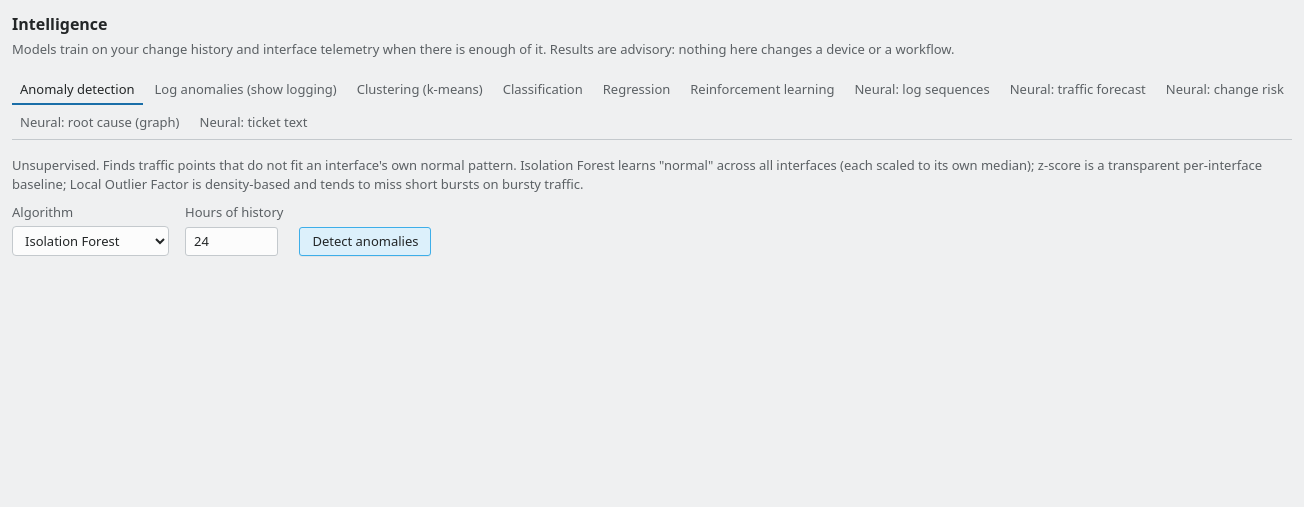
Scenario: MachineLearning › shows the learned wave-size policy
Click the tab "Reinforcement learning".
click(762, 90)  # box [682, 76, 842, 105]
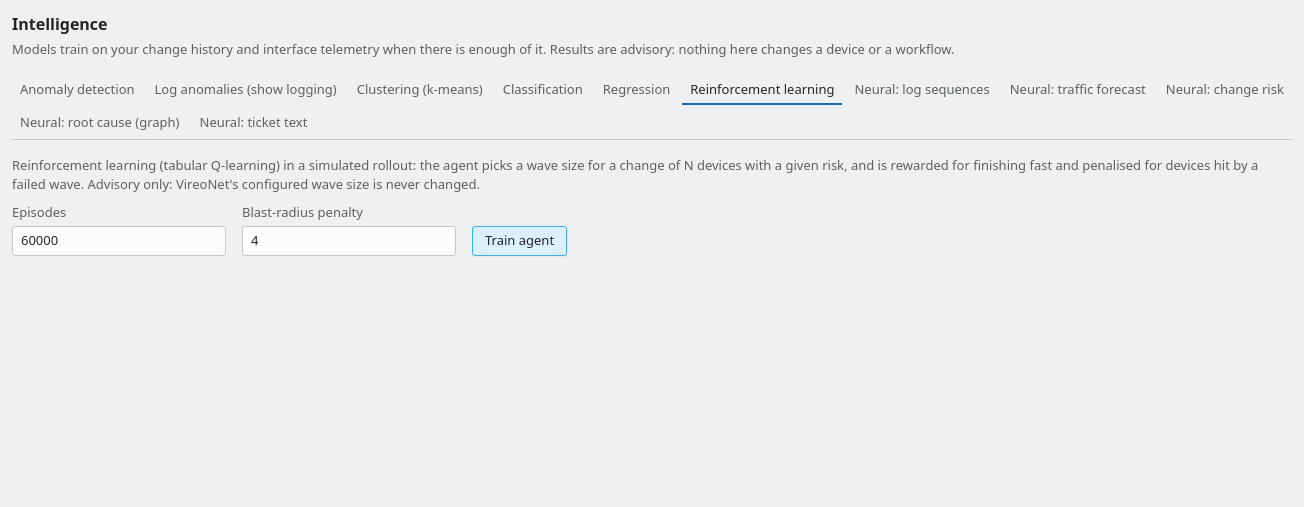
Click the button "Train agent".
click(520, 241)  # box [472, 226, 567, 256]
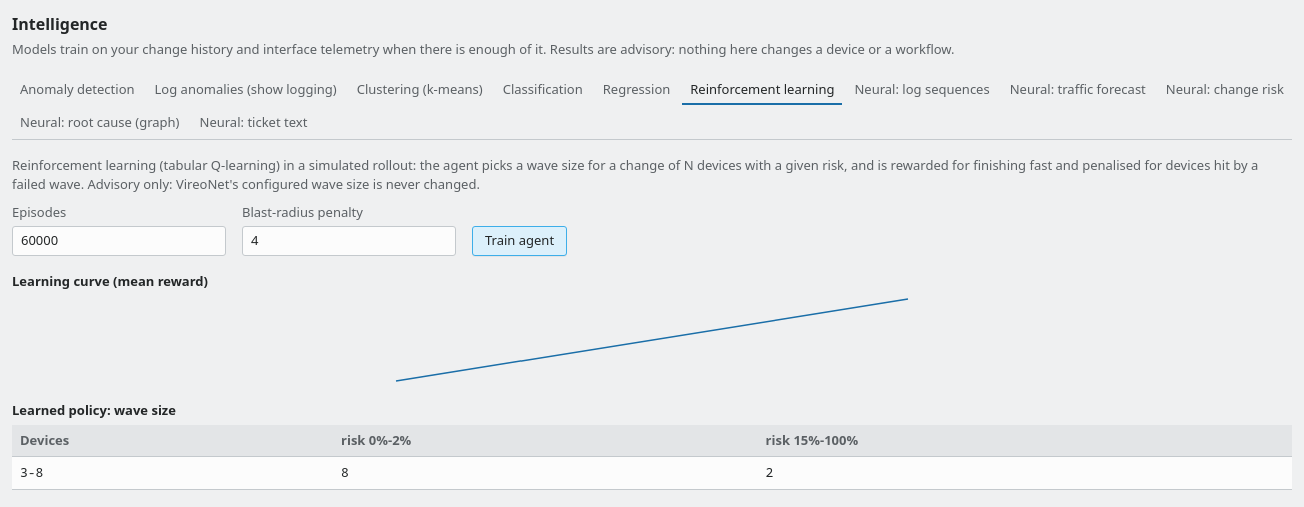
Now the table named "Wave size policy" is shown, box [12, 424, 1292, 490]
Now the column heading "risk 15%-100%" is shown, box [758, 424, 1292, 456]
